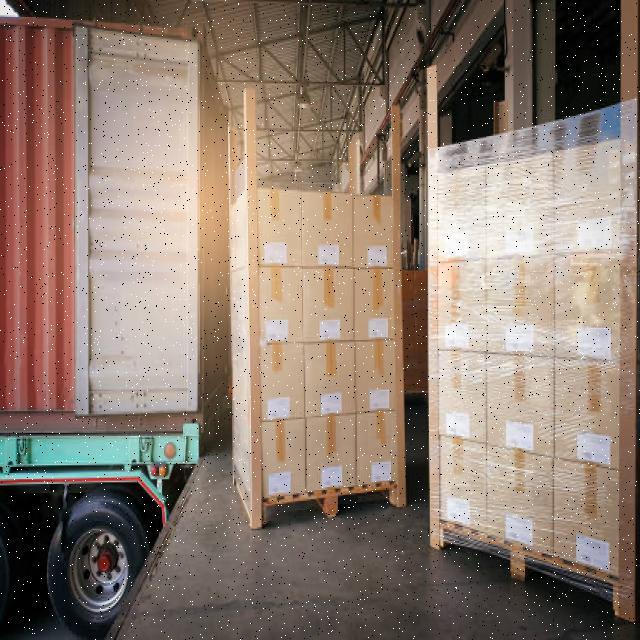Wooden-Pallets: (255, 478, 410, 532)
